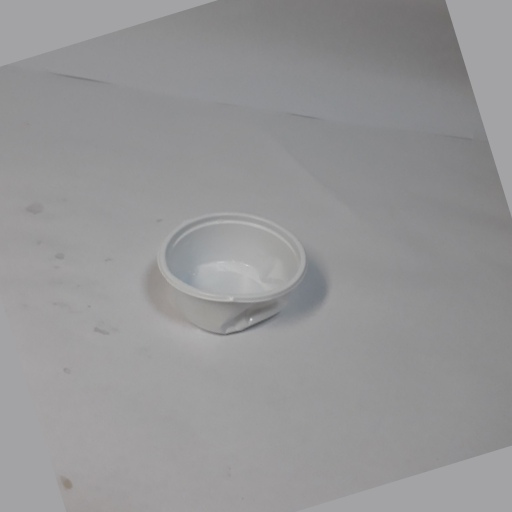Plastic_5: (152, 209, 310, 338)
